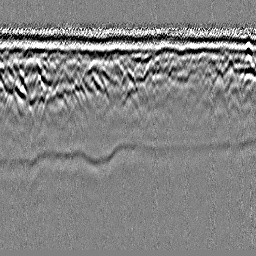cavity: (117, 64, 141, 105)
